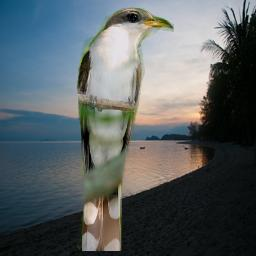Cuckoo: (75, 6, 174, 251)
